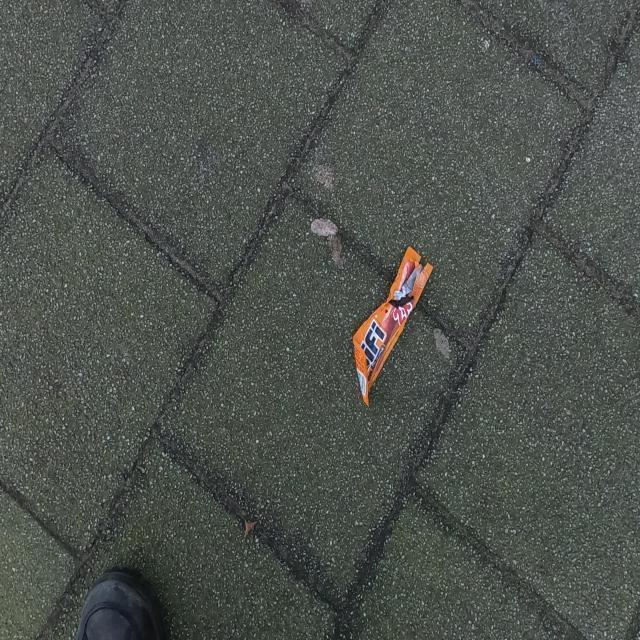Plastic: (350, 243, 435, 411)
